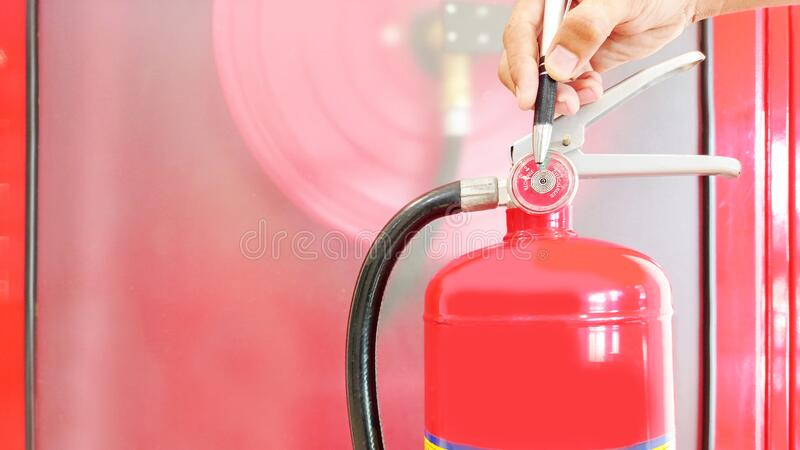fire_extinguisher: (344, 48, 742, 449)
